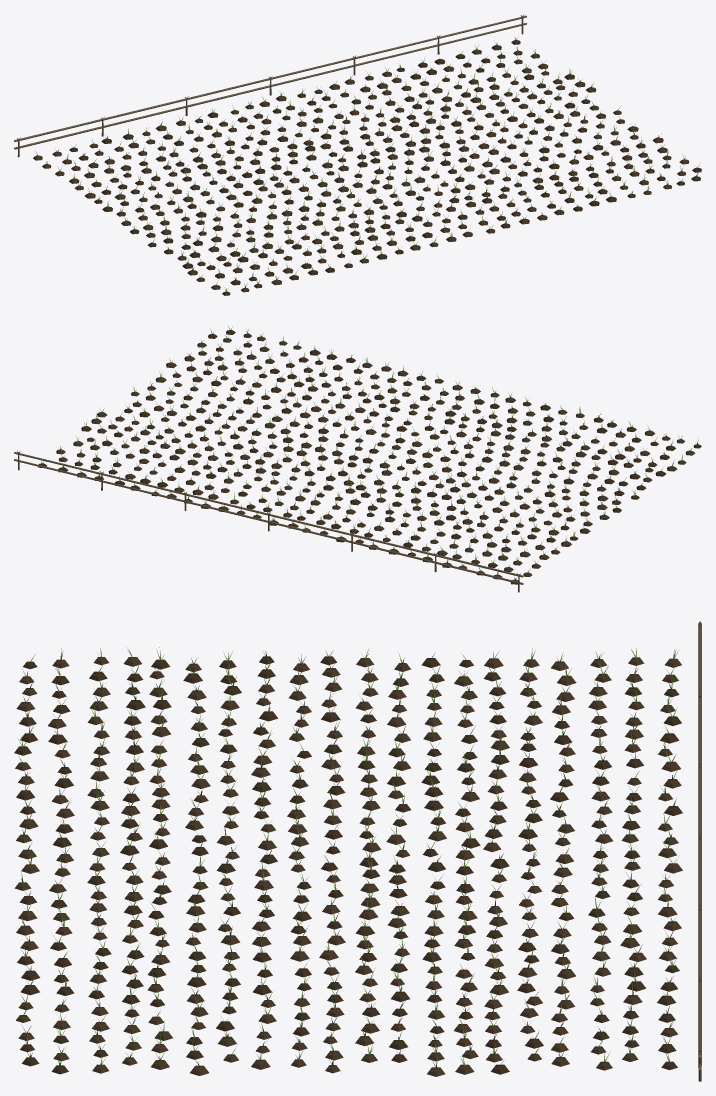
File: cornfield.glb
The picture shows the model from 3 angles, top to bottom: view 1: azimuth 30°, elevation 25°; view 2: azimuth 150°, elevation 25°; view 3: azimuth 270°, elevation 25°; orthographic projection. The views are drawn at different scales.
Visible parts, largest first — view 1: cornfield_1, cornfield_2; view 2: cornfield_1, cornfield_2; view 3: cornfield_1, cornfield_2.
Part boxes in pixels (x1,y1,x2,y2): cornfield_1: [14, 14, 701, 295]; cornfield_2: [36, 37, 699, 291]; cornfield_1: [14, 330, 701, 592]; cornfield_2: [41, 326, 698, 579]; cornfield_1: [14, 621, 701, 1081]; cornfield_2: [18, 647, 679, 1068].
Bounding box in the file's own units: 122 × 4.42 × 82.08.
